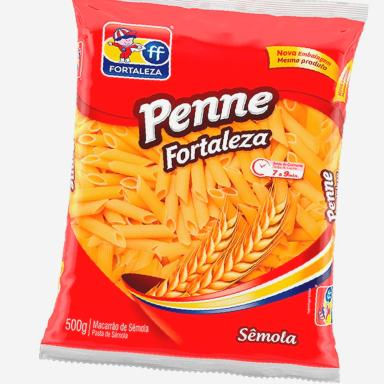pasta package: (41, 0, 367, 380)
